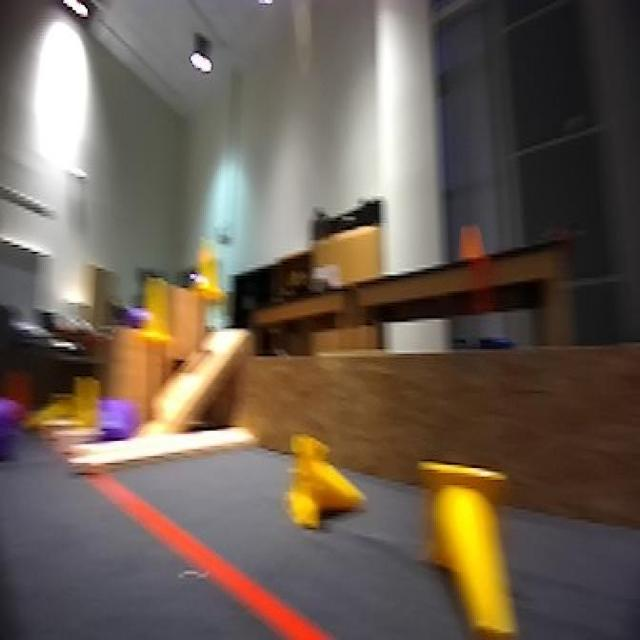frc_cone: (406, 434, 550, 640), (282, 429, 355, 540), (135, 264, 170, 352), (191, 236, 221, 306), (75, 374, 95, 426)
frc_cube: (90, 400, 128, 446), (118, 299, 139, 332)
